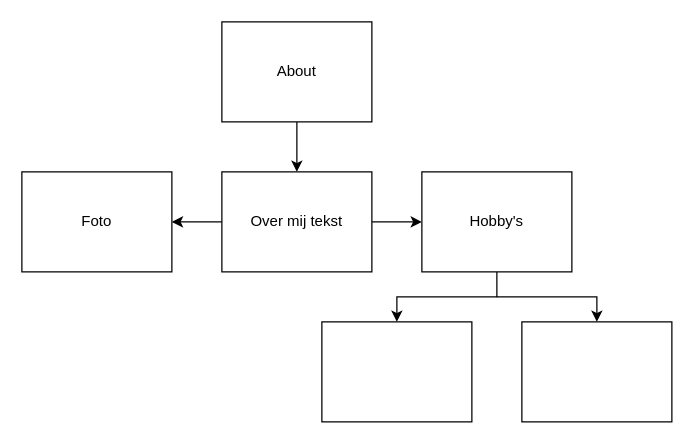
Image size: 694x444. Some labels were removed from this diagram. The centre of each missing label's shape, as x and y in pixels:
"Gamen" belongs at point (396, 371).
"Programmeren" belongs at point (596, 371).
